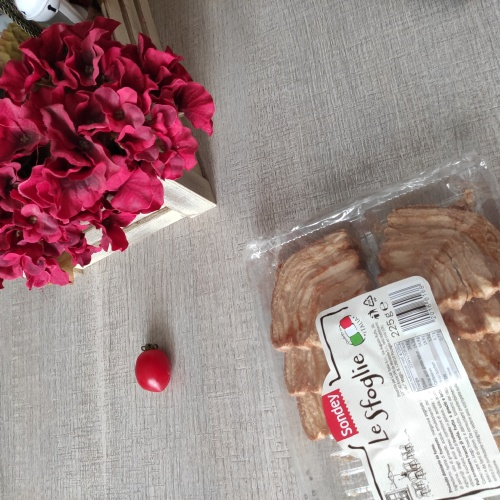pomodoro: (128, 339, 179, 395)
